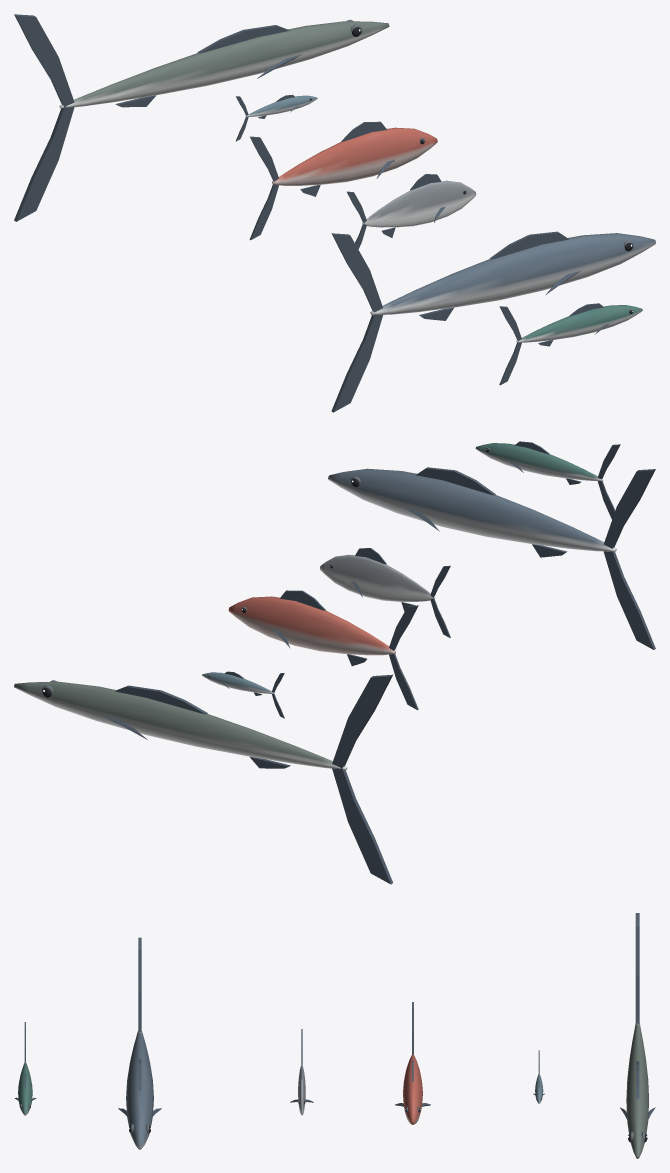
The model's file is supporting_ocean_fish.glb.
3 renders of one model, top to bottom at view 1: azimuth 30°, elevation 25°; view 2: azimuth 150°, elevation 25°; view 3: azimuth 270°, elevation 25°, orthographic. The views are drawn at different scales.
Visible parts, largest first — view 1: Seer_Body, Barracuda_Body, Snapper_Body, Barracuda_Tail, Pomfret_Body, Seer_Tail, Mackerel_Body, Snapper_Tail, Barracuda_Dorsal, Seer_Dorsal, Sardine_Body, Mackerel_Tail; view 2: Seer_Body, Barracuda_Body, Snapper_Body, Barracuda_Tail, Pomfret_Body, Seer_Tail, Mackerel_Body, Snapper_Tail, Barracuda_Dorsal, Seer_Dorsal, Sardine_Body; view 3: Seer_Body, Barracuda_Body, Snapper_Body, Mackerel_Body, Barracuda_Tail, Seer_Tail.
Part boxes in pixels (x1,y1,x2,y2): Seer_Body: [370, 233, 655, 315]; Barracuda_Body: [59, 21, 389, 108]; Snapper_Body: [272, 127, 437, 185]; Barracuda_Tail: [14, 14, 74, 221]; Pomfret_Body: [362, 180, 476, 227]; Seer_Tail: [331, 233, 382, 412]; Mackerel_Body: [516, 305, 642, 342]; Snapper_Tail: [249, 136, 278, 240]; Barracuda_Dorsal: [197, 25, 289, 53]; Seer_Dorsal: [490, 231, 568, 259]; Sardine_Body: [245, 95, 317, 116]; Mackerel_Tail: [499, 306, 521, 385]; Seer_Body: [328, 468, 616, 551]; Barracuda_Body: [14, 681, 347, 769]; Snapper_Body: [228, 596, 396, 655]; Barracuda_Tail: [332, 674, 392, 884]; Pomfret_Body: [320, 554, 434, 601]; Seer_Tail: [603, 469, 655, 649]; Mackerel_Body: [475, 443, 603, 480]; Snapper_Tail: [389, 605, 418, 710]; Barracuda_Dorsal: [115, 685, 207, 714]; Seer_Dorsal: [416, 467, 495, 495]; Sardine_Body: [202, 672, 274, 693]; Seer_Body: [126, 1031, 153, 1149]; Barracuda_Body: [626, 1023, 648, 1158]; Snapper_Body: [403, 1055, 422, 1124]; Mackerel_Body: [18, 1063, 32, 1115]; Barracuda_Tail: [635, 913, 639, 1023]; Seer_Tail: [138, 937, 141, 1031].
Bounding box in the file's own units: 1.25 × 0.66 × 2.16.
